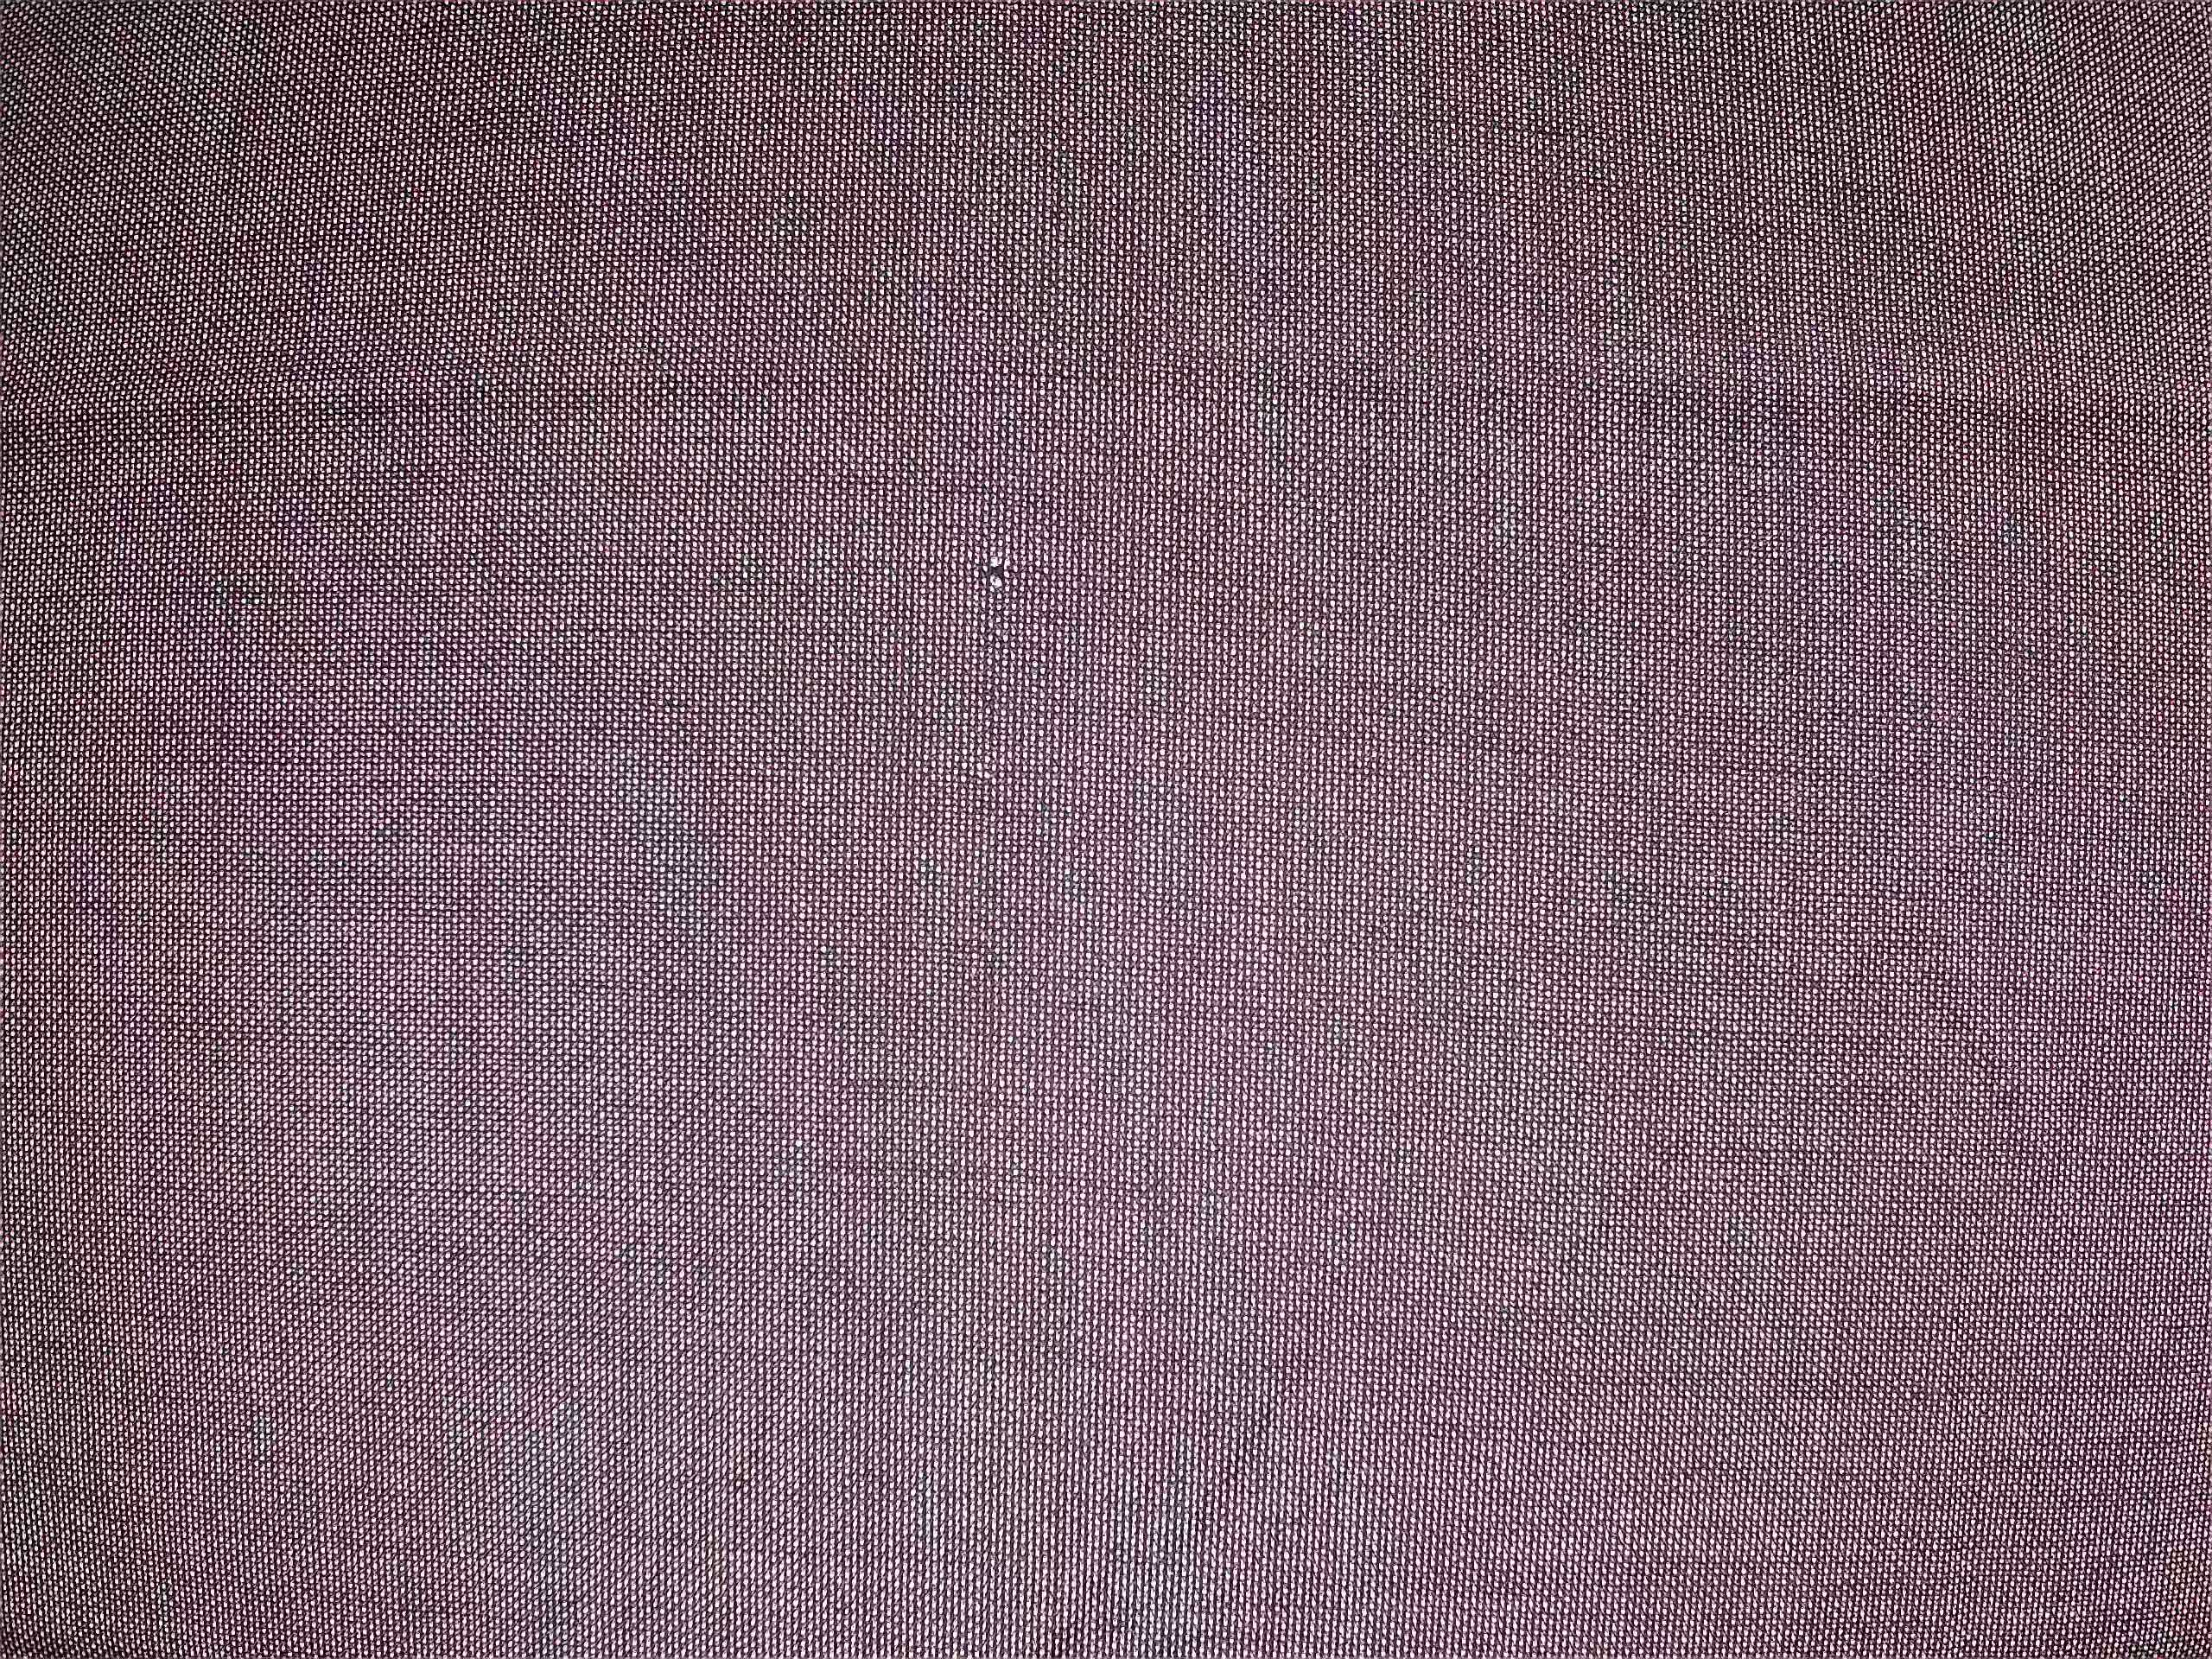rubbing-hole: (972, 547, 1026, 598)
